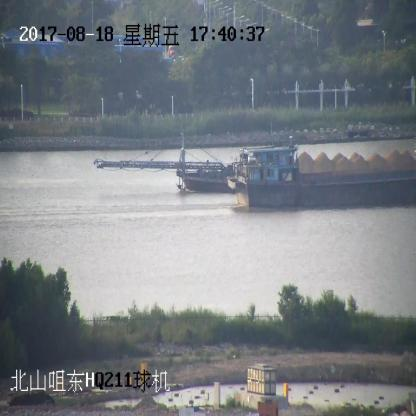Bulk Carrier: (231, 151, 416, 209)
